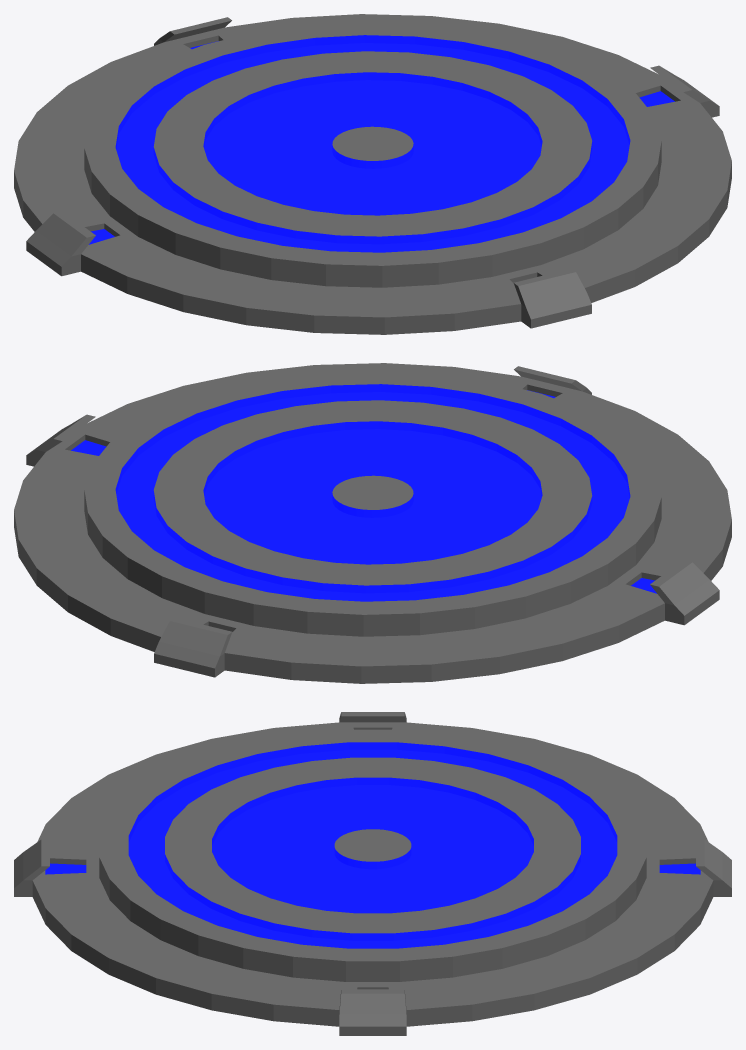
File: knopka.fbx
3 views of the same model, one above another, from view 1: azimuth 30°, elevation 25°; view 2: azimuth 150°, elevation 25°; view 3: azimuth 270°, elevation 25° (orthographic). The views are drawn at different scales.
Visible parts, largest first — view 1: Cylinder; view 2: Cylinder; view 3: Cylinder.
Boxes of the visible parts, <box> form: Cylinder: <box>14,14,731,334</box>; Cylinder: <box>14,363,731,683</box>; Cylinder: <box>14,712,731,1035</box>.
Bounding box in the file's own units: 212 × 12.07 × 210.
